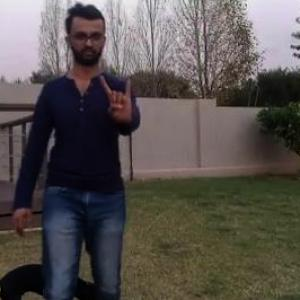takeoff-hand: (97, 64, 143, 129)
